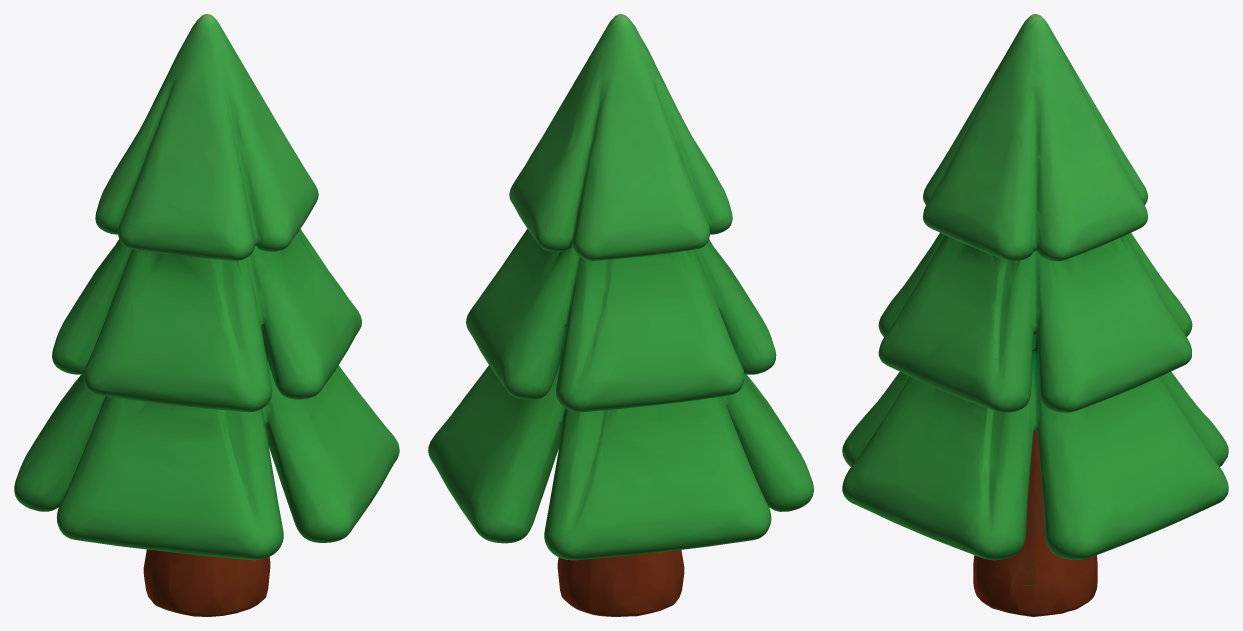
Rendered from pine.glb.
3 views of the same model, side by side, from view 1: azimuth 30°, elevation 25°; view 2: azimuth 150°, elevation 25°; view 3: azimuth 270°, elevation 25° (orthographic).
Visible parts, largest first — view 1: Mesh_0; view 2: Mesh_0; view 3: Mesh_0.
Boxes of the visible parts, bbox=[...] form: Mesh_0: bbox=[14, 14, 399, 616]; Mesh_0: bbox=[428, 14, 813, 616]; Mesh_0: bbox=[842, 14, 1228, 616].
Bounding box in the file's own units: 1.16 × 1.91 × 1.16.
Materials: 1 (1 with a texture image).
